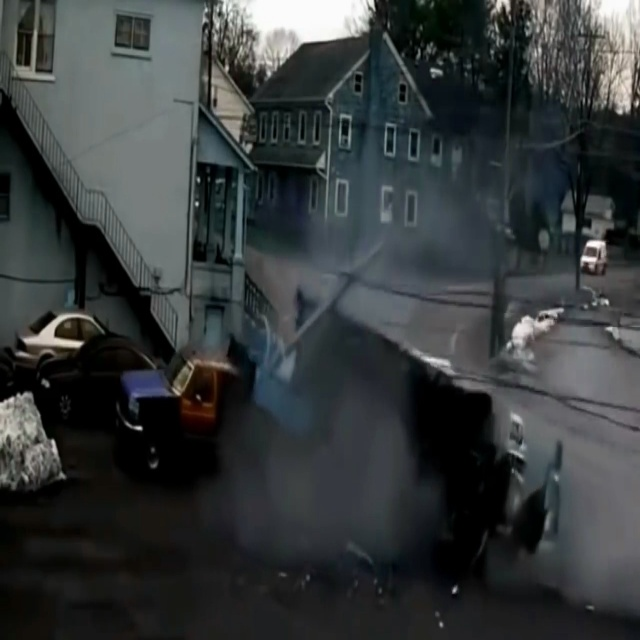acc: (286, 284, 565, 583)
